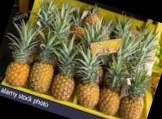Pineapple: (30, 30, 58, 92), (121, 65, 150, 118), (77, 49, 101, 108)
